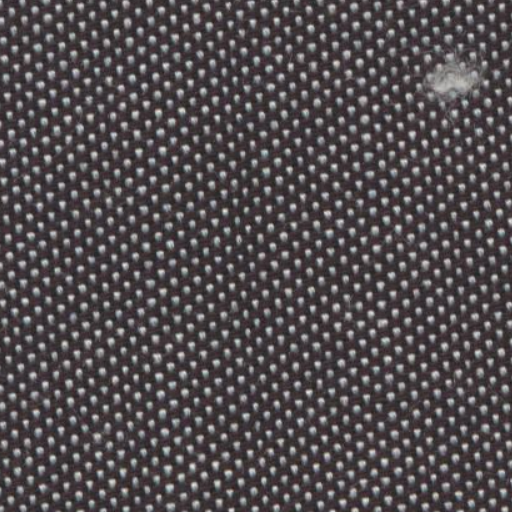PoDong: (413, 30, 493, 115)
